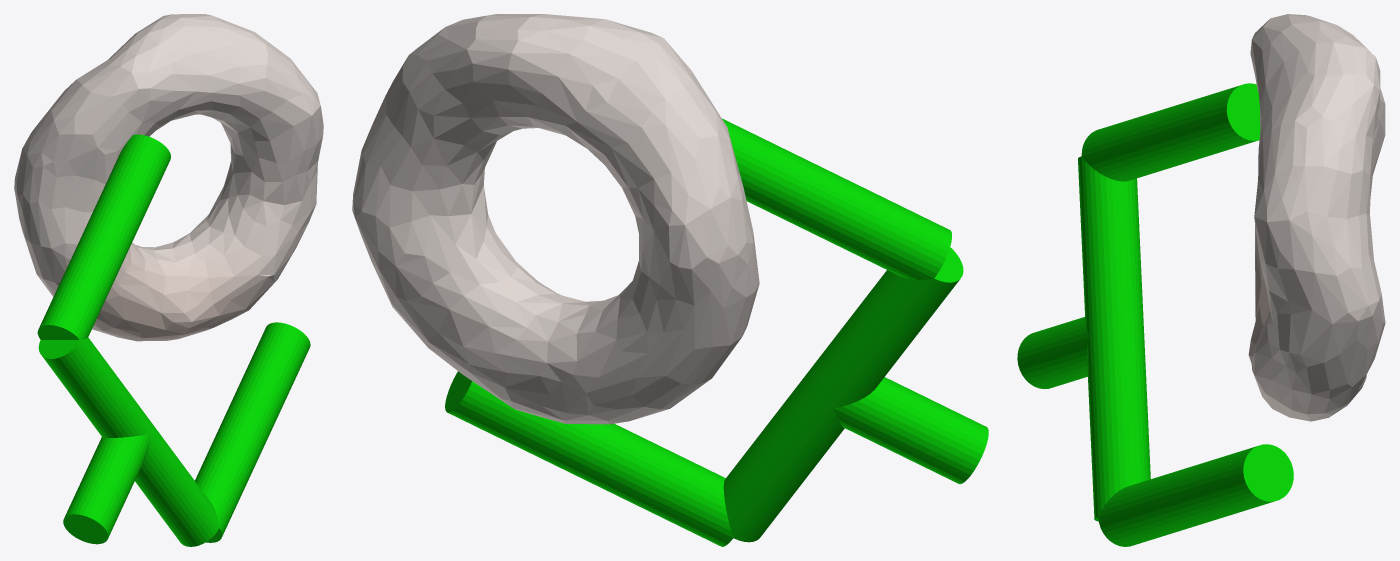
File: round_001_trial_001.obj
The picture shows the model from 3 angles, left to right: view 1: azimuth 30°, elevation 25°; view 2: azimuth 150°, elevation 25°; view 3: azimuth 270°, elevation 25°; orthographic projection. The views are drawn at different scales.
Parts seen in each view (by area): view 1: geometry_0, geometry_1; view 2: geometry_0, geometry_1; view 3: geometry_0, geometry_1.
Part boxes in pixels (bbox=[...]): geometry_0: bbox=[14, 14, 323, 341]; geometry_1: bbox=[37, 134, 310, 546]; geometry_0: bbox=[352, 14, 759, 424]; geometry_1: bbox=[445, 118, 988, 546]; geometry_0: bbox=[1248, 14, 1385, 421]; geometry_1: bbox=[1017, 83, 1293, 546].
Size of the model in its own units: 0.0864 by 0.102 by 0.0631.
